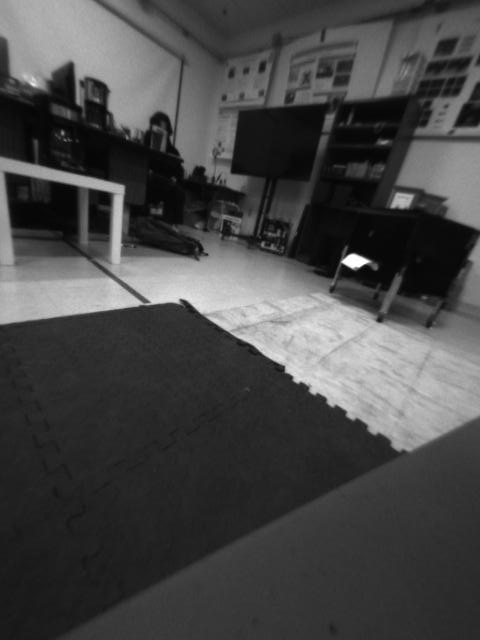coffee_pot: (42, 97, 87, 175)
